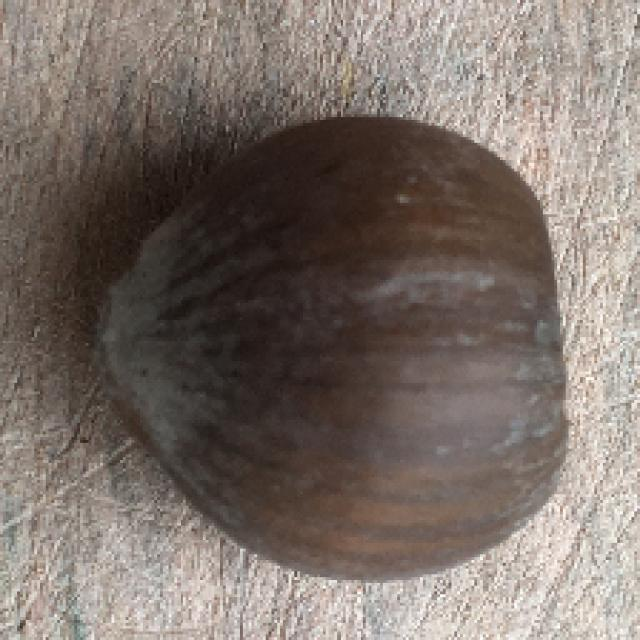damagedHazelnut: (82, 108, 570, 587)
